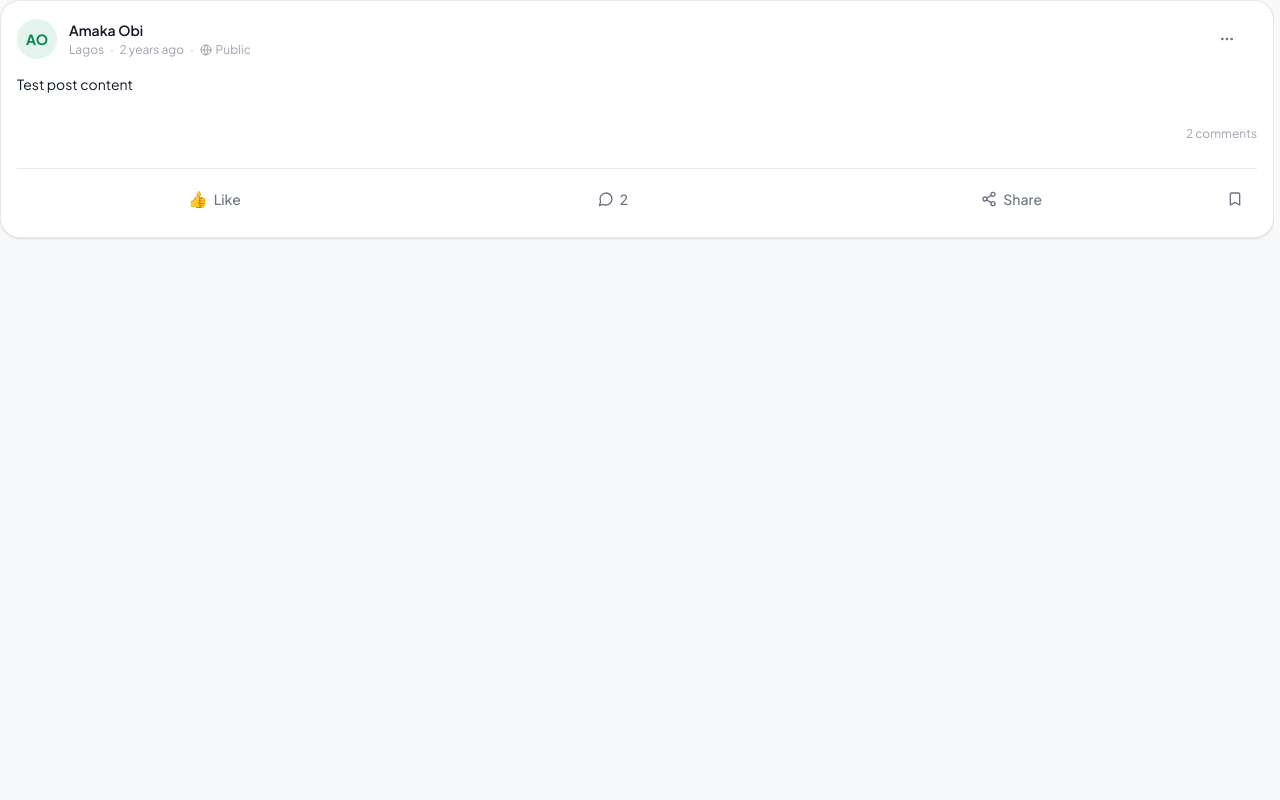
Test: PostCard › opens comment sheet on comments count click
The width and height of the screenshot is (1280, 800).
Click the button "2 comments" at (1221, 134), box [1186,112,1257,156]
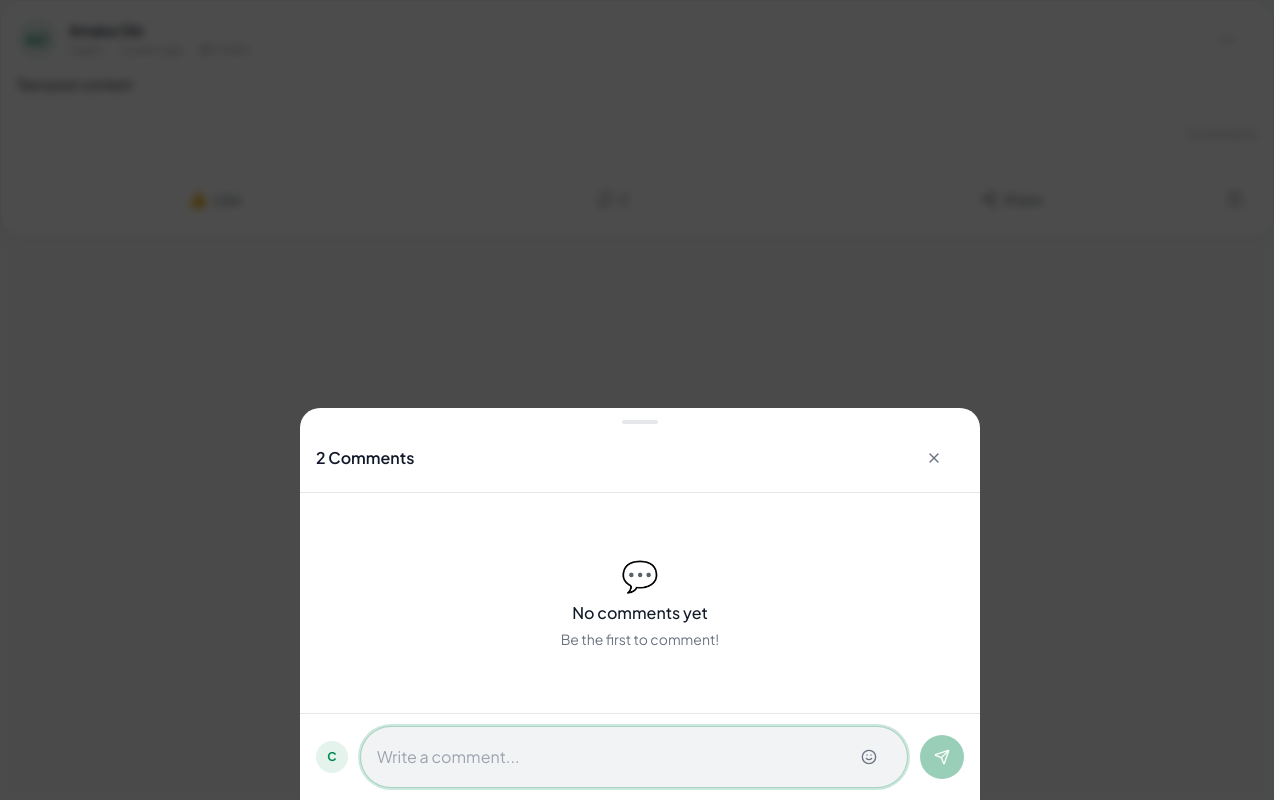
Expected: the heading "2 Comments" is shown, [316,446,414,470]
